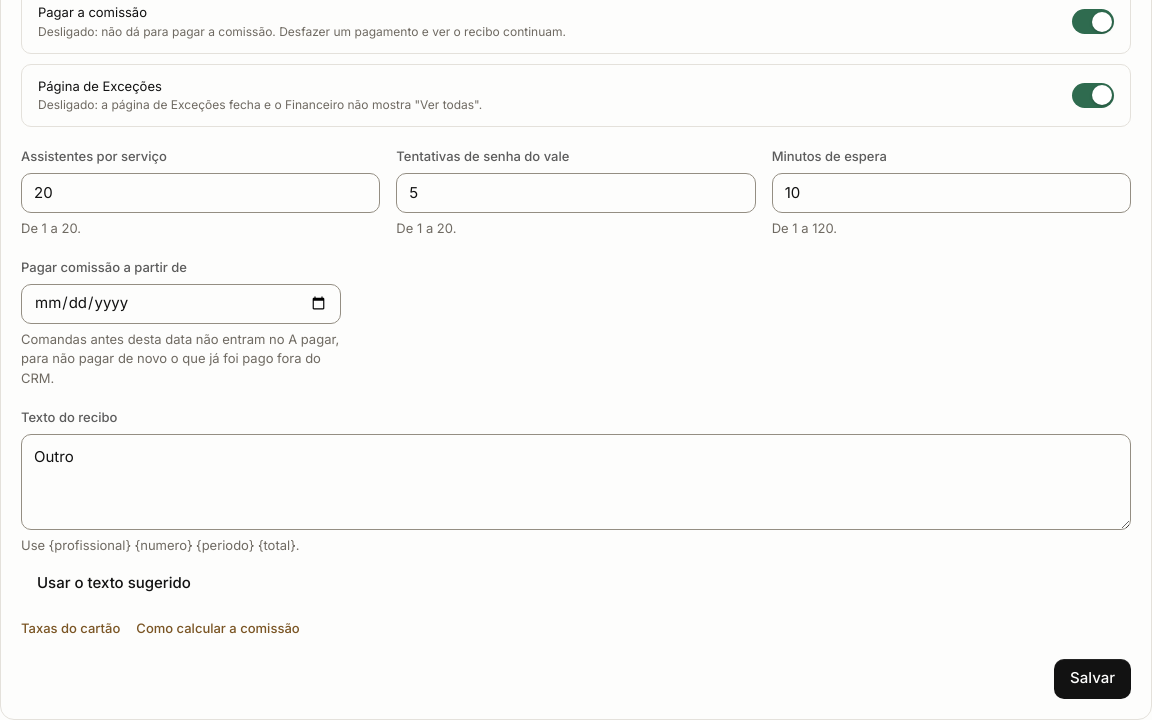
Test: 'Usar o texto sugerido' devolve o texto
This screenshot has width=1152, height=720.
(page scrolled)
Expected: the text box labelled "Texto do recibo" holds "Outro", [21,434,1131,530]
Click the button "Usar o texto sugerido": (114, 583) [21,563,207,603]
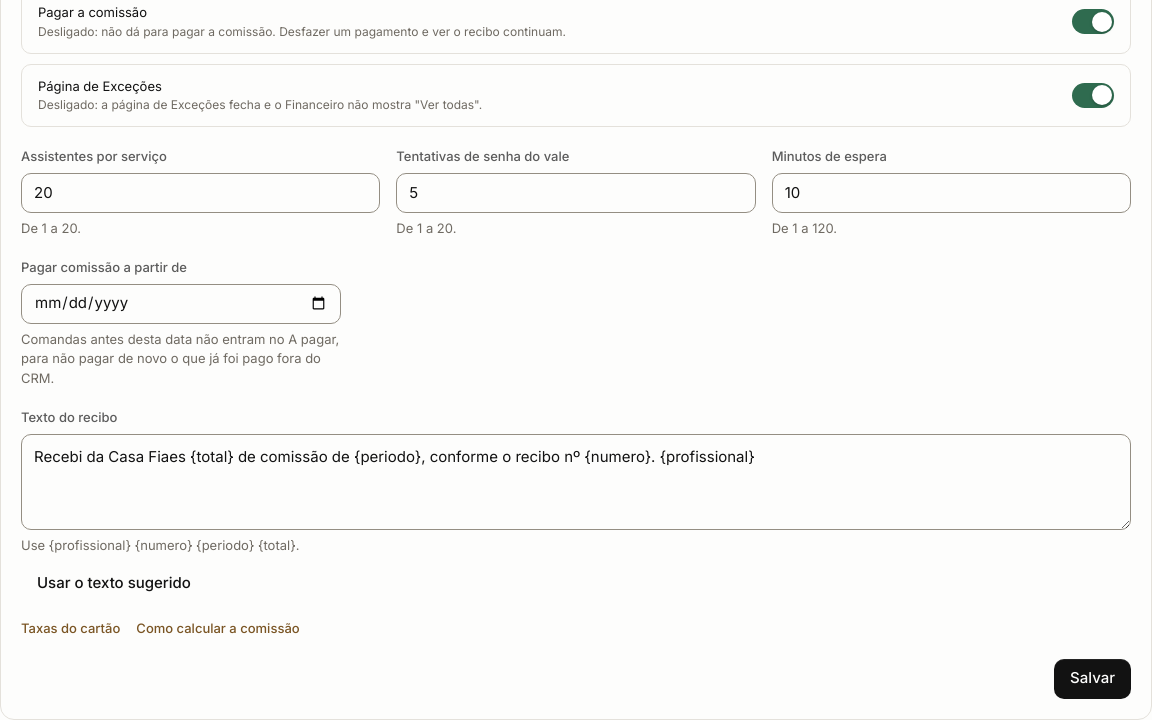
Expected: the text box labelled "Texto do recibo" holds "Recebi da Casa Fiaes {total} de comissão de {periodo}, conforme o recibo nº {numero}. {profissional}", [21,434,1131,530]
